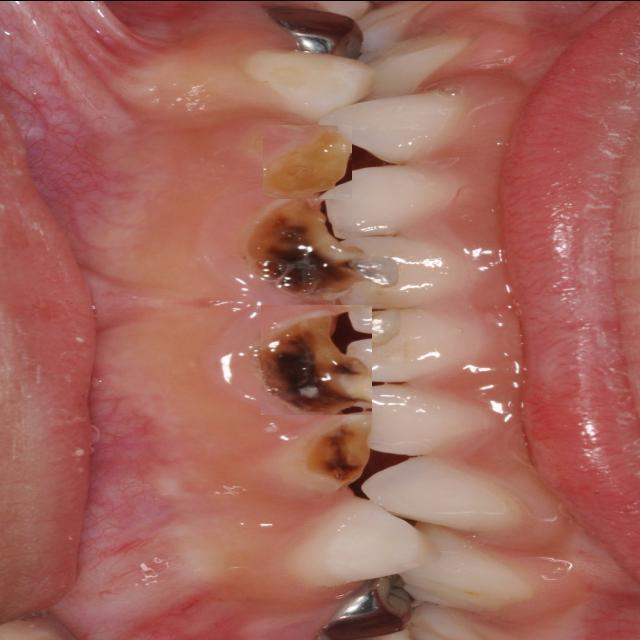caries: (261, 304, 372, 414), (247, 197, 355, 297), (263, 124, 352, 198), (305, 422, 379, 485)
